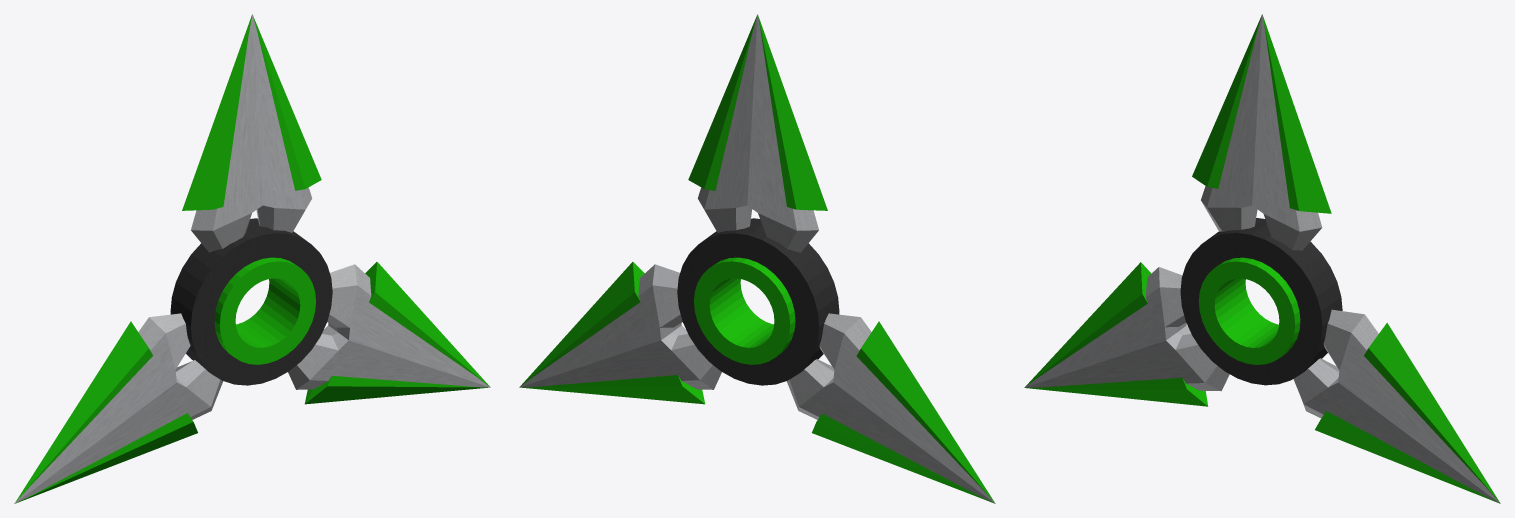
Rendered from shuriken.glb.
3 renders of one model, left to right at view 1: azimuth 30°, elevation 25°; view 2: azimuth 150°, elevation 25°; view 3: azimuth 330°, elevation 25°, orthographic.
Visible parts, largest first — view 1: FILO.002, FILOs, Cylinder.001, Cylinder; view 2: FILO.002, FILOs, Cylinder.001, Cylinder; view 3: FILO.002, FILOs, Cylinder.001, Cylinder.
Boxes of the visible parts, left/top/right/bottom form: FILO.002: left=14, top=14, right=490, bottom=503; FILOs: left=14, top=14, right=489, bottom=503; Cylinder.001: left=170, top=218, right=332, bottom=385; Cylinder: left=214, top=257, right=315, bottom=364; FILO.002: left=519, top=14, right=995, bottom=503; FILOs: left=520, top=14, right=995, bottom=503; Cylinder.001: left=677, top=218, right=839, bottom=385; Cylinder: left=694, top=257, right=795, bottom=364; FILO.002: left=1024, top=14, right=1500, bottom=503; FILOs: left=1025, top=14, right=1500, bottom=503; Cylinder.001: left=1180, top=218, right=1342, bottom=385; Cylinder: left=1198, top=257, right=1300, bottom=364.
Size of the model in its own units: 1.14 by 0.9894 by 0.1285.
4 materials, 2 textured.
